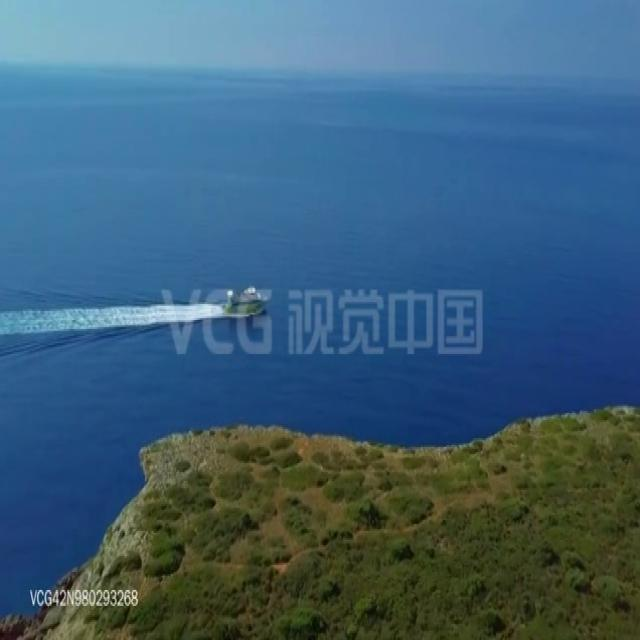houseboat: (222, 283, 270, 319)
